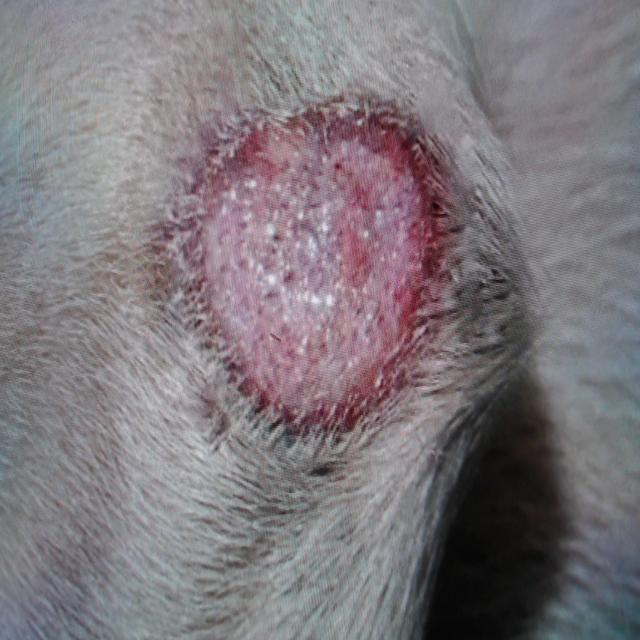ringworm: (161, 44, 466, 507)
